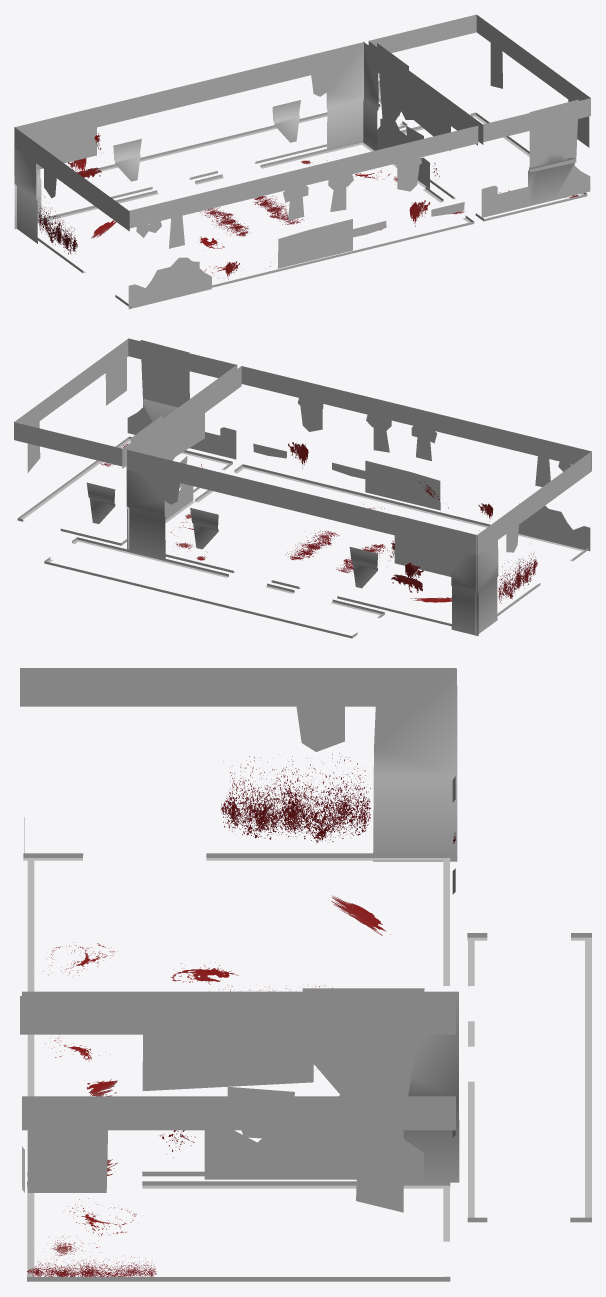
File: A2_TR_Decals.FBX
3 renders of one model, top to bottom at view 1: azimuth 30°, elevation 25°; view 2: azimuth 150°, elevation 25°; view 3: azimuth 270°, elevation 25°, orthographic. The views are drawn at different scales.
Parts seen in each view (by area): view 1: A2_TR_Decals; view 2: A2_TR_Decals; view 3: A2_TR_Decals.
Boxes of the visible parts, x1,y1,x2,y2 form: A2_TR_Decals: [14, 14, 590, 309]; A2_TR_Decals: [14, 338, 591, 638]; A2_TR_Decals: [20, 668, 591, 1281].
Size of the model in its own units: 1531 by 335 by 872.
